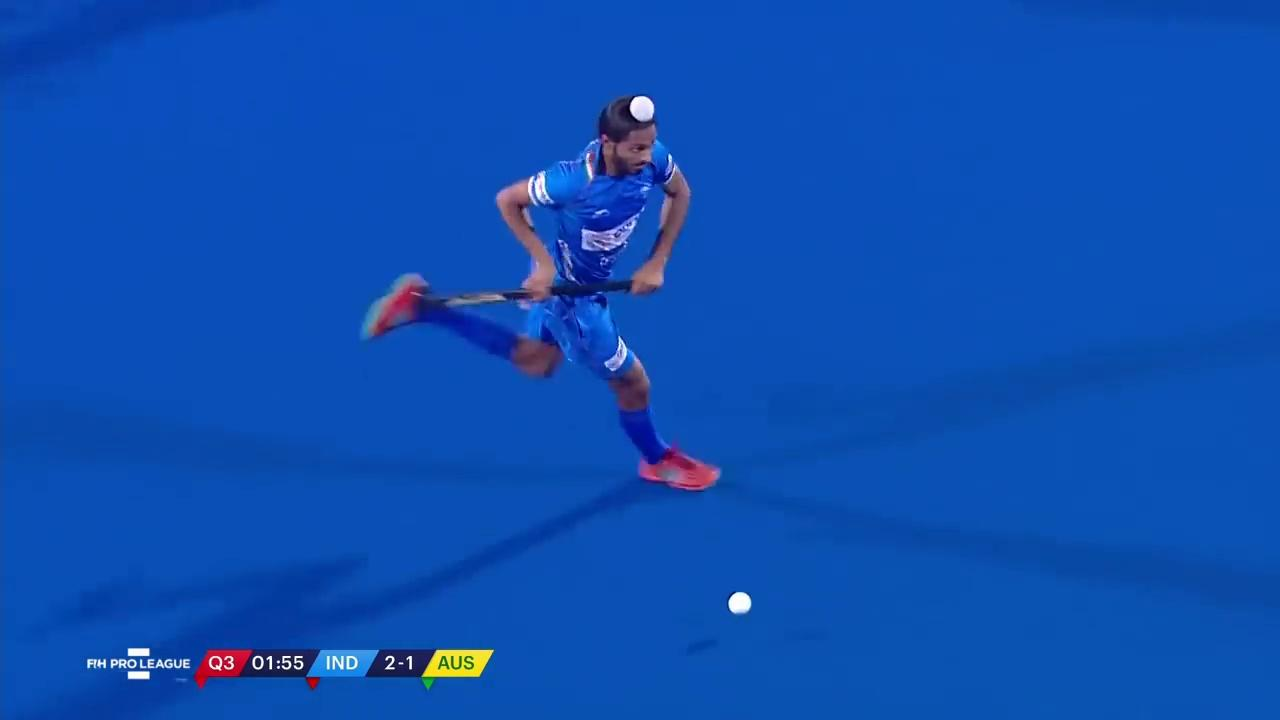ball: (712, 577, 765, 623)
